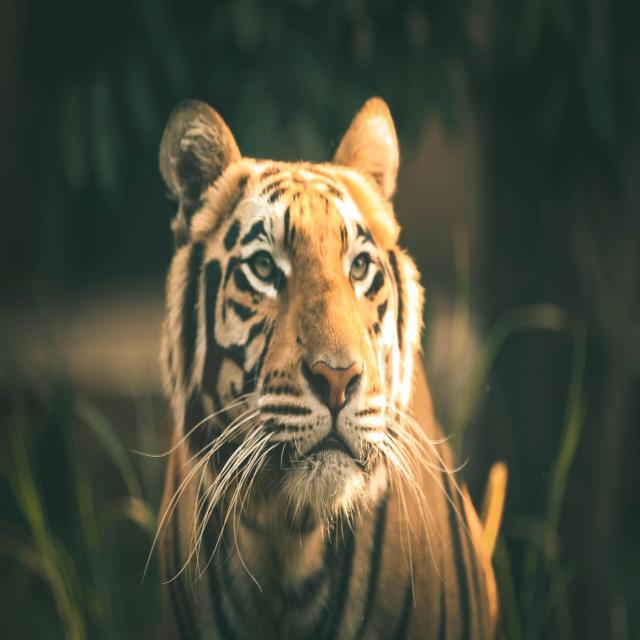Tiger: (159, 95, 503, 640)
